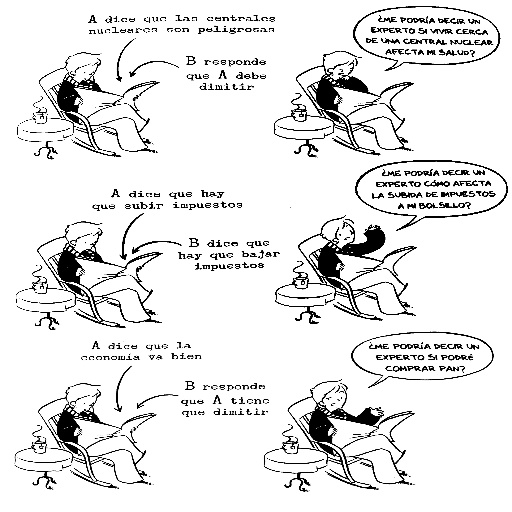hand: (367, 406, 385, 418), (70, 425, 83, 437), (364, 222, 381, 231), (332, 94, 343, 105), (74, 266, 85, 276), (326, 427, 337, 437), (335, 261, 343, 273), (73, 97, 82, 106), (132, 94, 141, 102), (130, 425, 138, 433), (135, 265, 144, 272)
